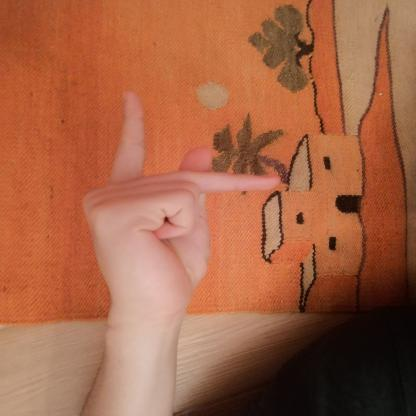DHAA: (64, 80, 298, 322)
